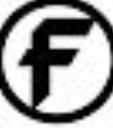Fisher: (19, 17, 93, 109)
